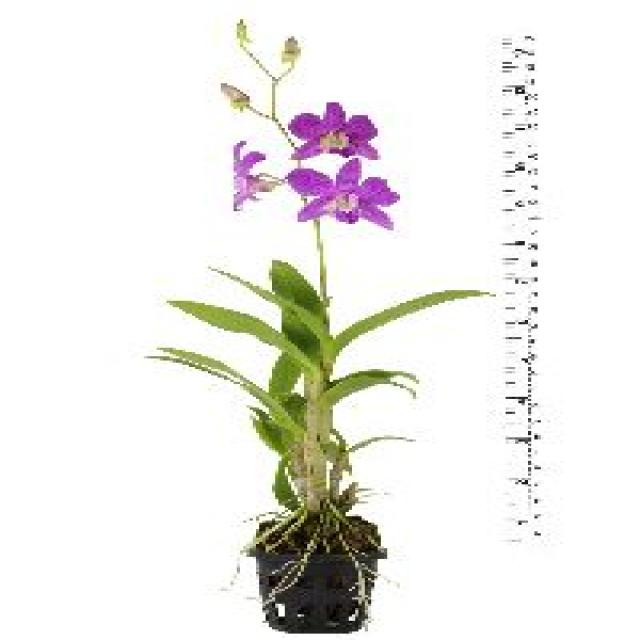flower: (288, 159, 399, 230), (289, 104, 378, 161), (228, 139, 291, 211)
leaf: (143, 345, 302, 455), (165, 299, 321, 379), (333, 290, 488, 357), (268, 259, 326, 322), (326, 369, 419, 408), (272, 260, 320, 318), (269, 352, 304, 422), (282, 311, 317, 358), (259, 414, 288, 448), (275, 478, 285, 499)
plant: (132, 12, 493, 637)
pot: (240, 501, 402, 635)
root: (224, 501, 304, 589), (262, 533, 323, 614), (349, 550, 365, 604), (326, 499, 349, 525), (342, 542, 355, 555), (355, 582, 362, 599)
stem: (301, 367, 326, 510)
